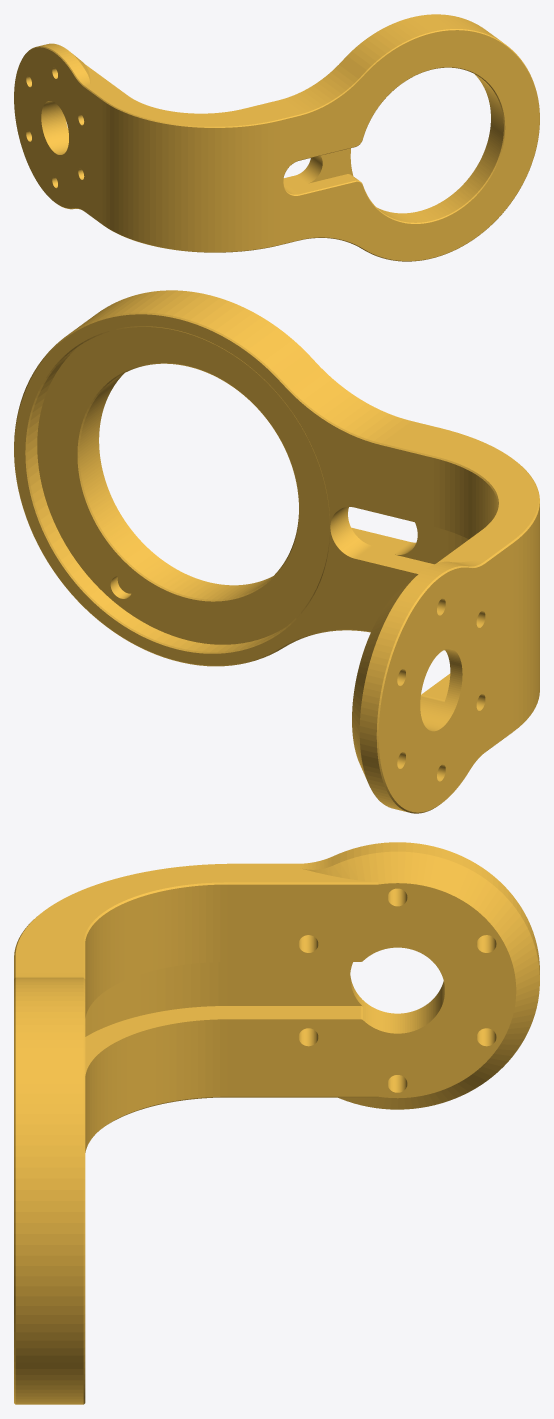
3 views of the same model, one above another, from view 1: azimuth 30°, elevation 25°; view 2: azimuth 150°, elevation 25°; view 3: azimuth 270°, elevation 25° (orthographic). The views are drawn at different scales.
Parts seen in each view (by area): view 1: arml7; view 2: arml7; view 3: arml7.
Boxes of the visible parts, x1,y1,x2,y2 form: arml7: (14, 14, 539, 261); arml7: (14, 290, 539, 813); arml7: (14, 842, 539, 1404).
Bounding box in the file's own units: 0.093 × 0.054 × 0.0665.
